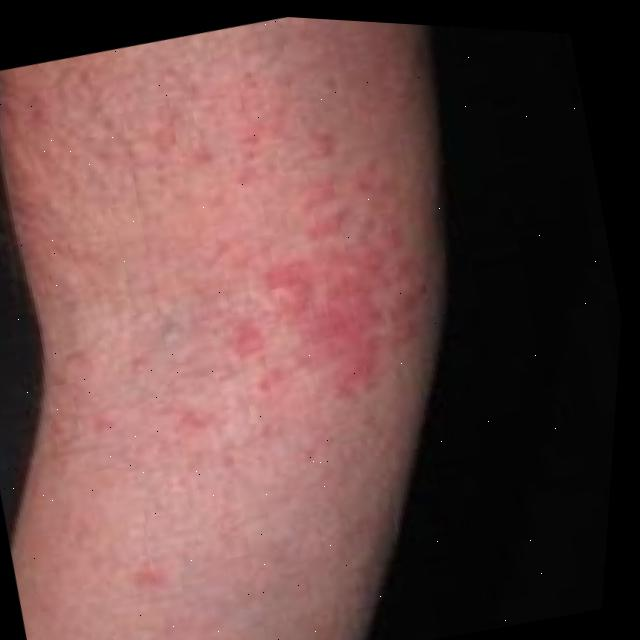Eczema: (0, 0, 527, 621)
